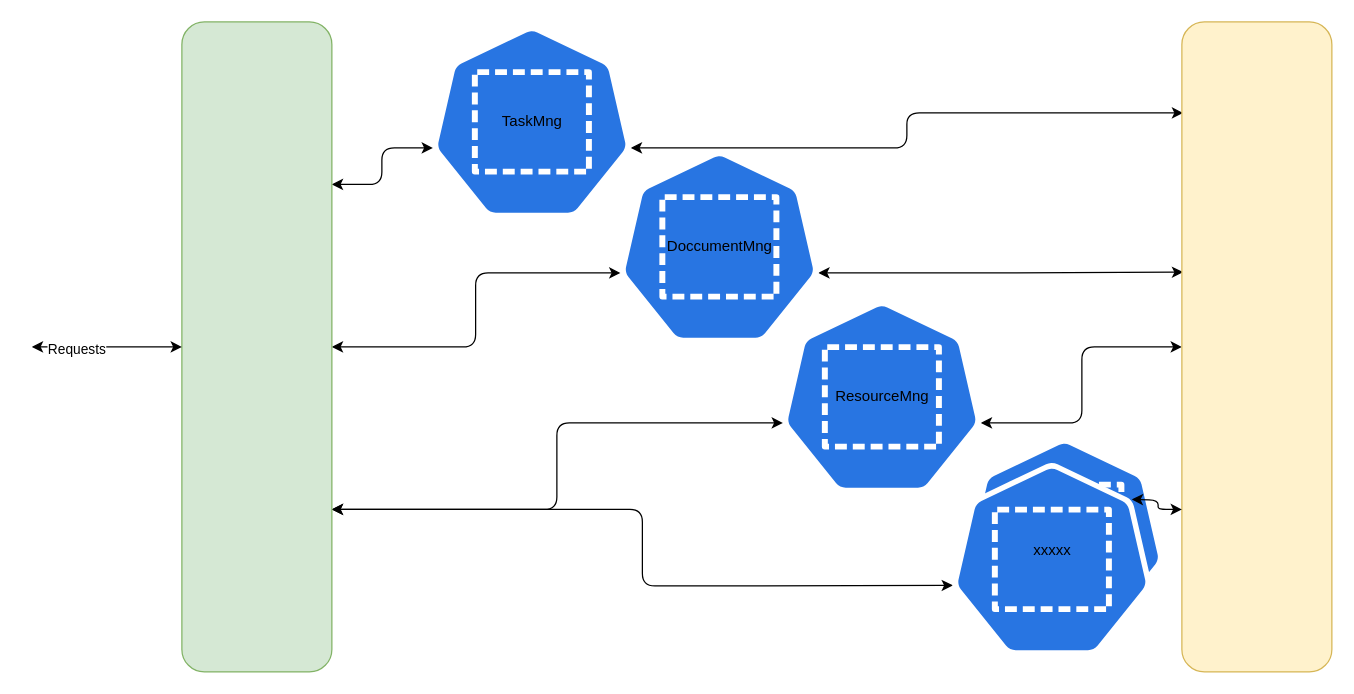
This 1354x694 diagram has some shape labels left out. The box of each missing label's shape, as (x1, y1, x2, y2) in pixels:
Bridge: (181, 21, 332, 672)
Message/Events: (1181, 21, 1332, 672)
